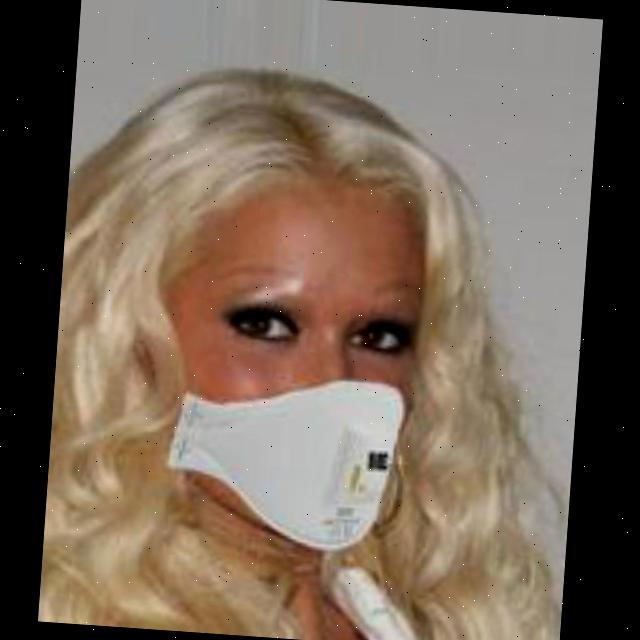suspicion: (82, 97, 458, 562)
